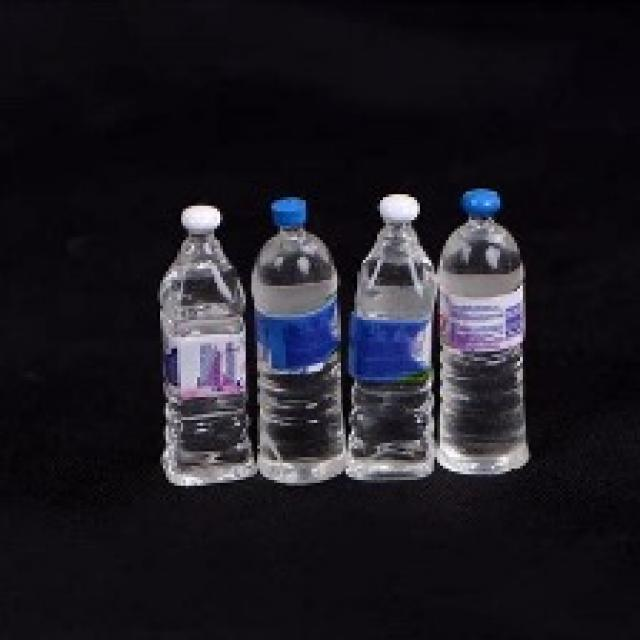heap: (172, 202, 534, 480)
plastic_bag: (440, 193, 529, 475)
plastic_bottle: (249, 195, 352, 479), (351, 190, 444, 479), (158, 210, 254, 475)
